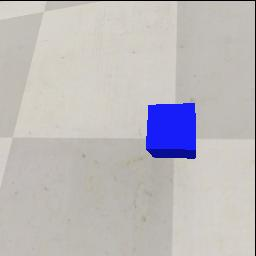box: (146, 103, 196, 159)
